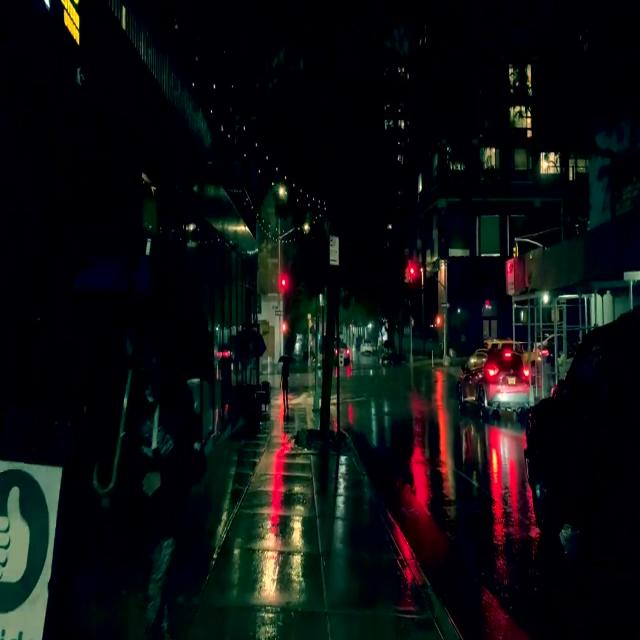Car: (455, 347, 528, 418)
